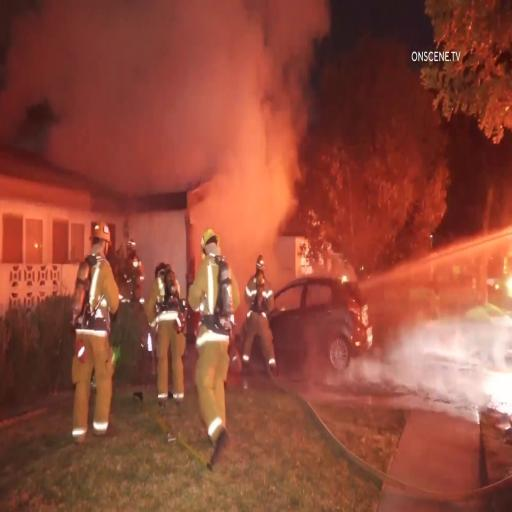smoke: (2, 1, 405, 187)
